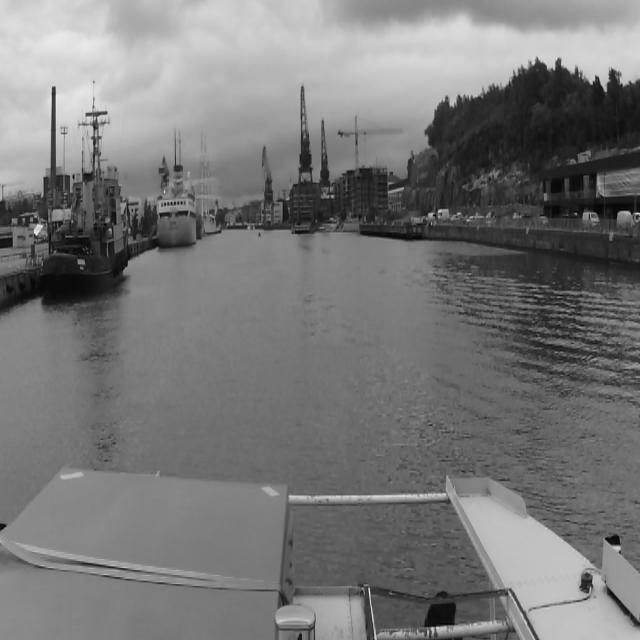ship: (39, 88, 127, 298), (156, 162, 196, 245), (200, 127, 221, 240)
